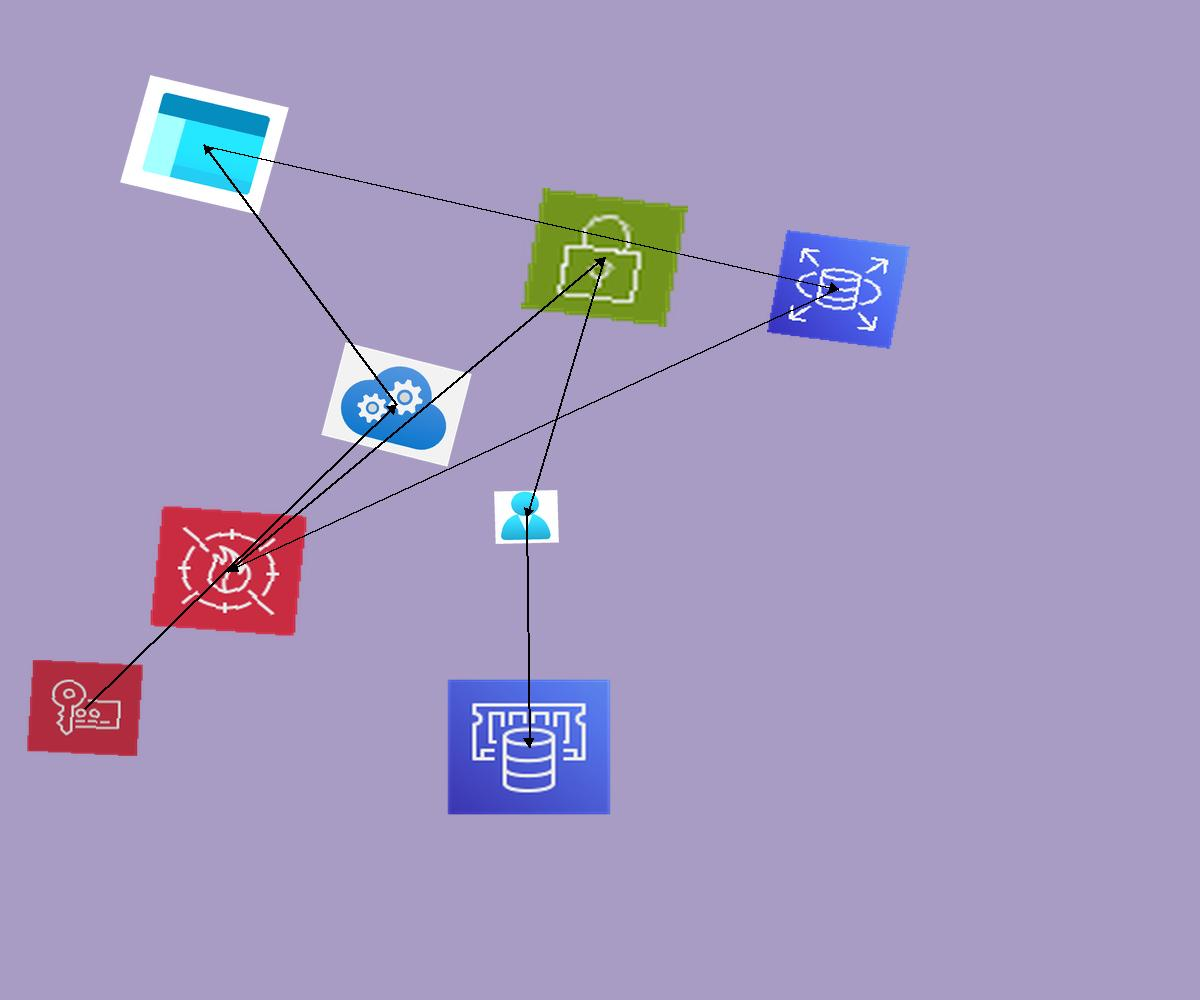AWS-ElastiCache: (446, 678, 612, 816)
AWS-Key-Management-Service: (26, 659, 144, 757)
AWS-Public-subnet: (521, 188, 688, 327)
AWS-RDS: (767, 230, 910, 349)
AWS-WAF: (149, 505, 308, 637)
Azure_cloud_services: (321, 342, 472, 467)
Azure_management-portal: (120, 75, 289, 215)
Azure_users: (494, 490, 559, 544)
